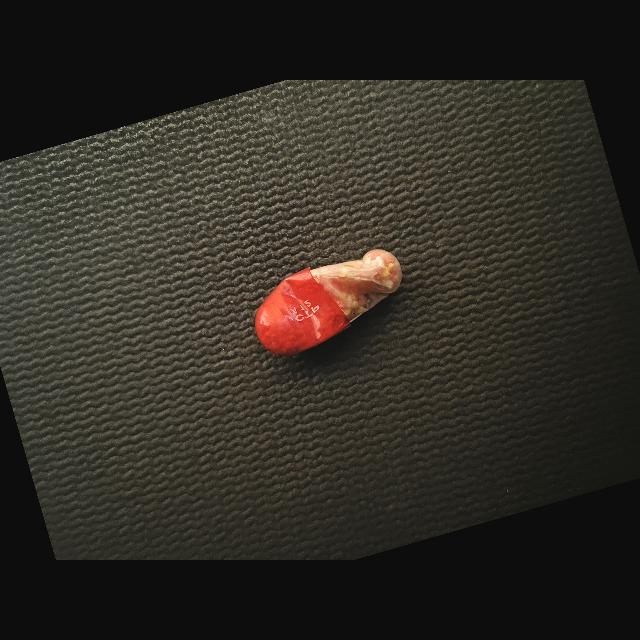Defective Capsule: (255, 249, 402, 355)
